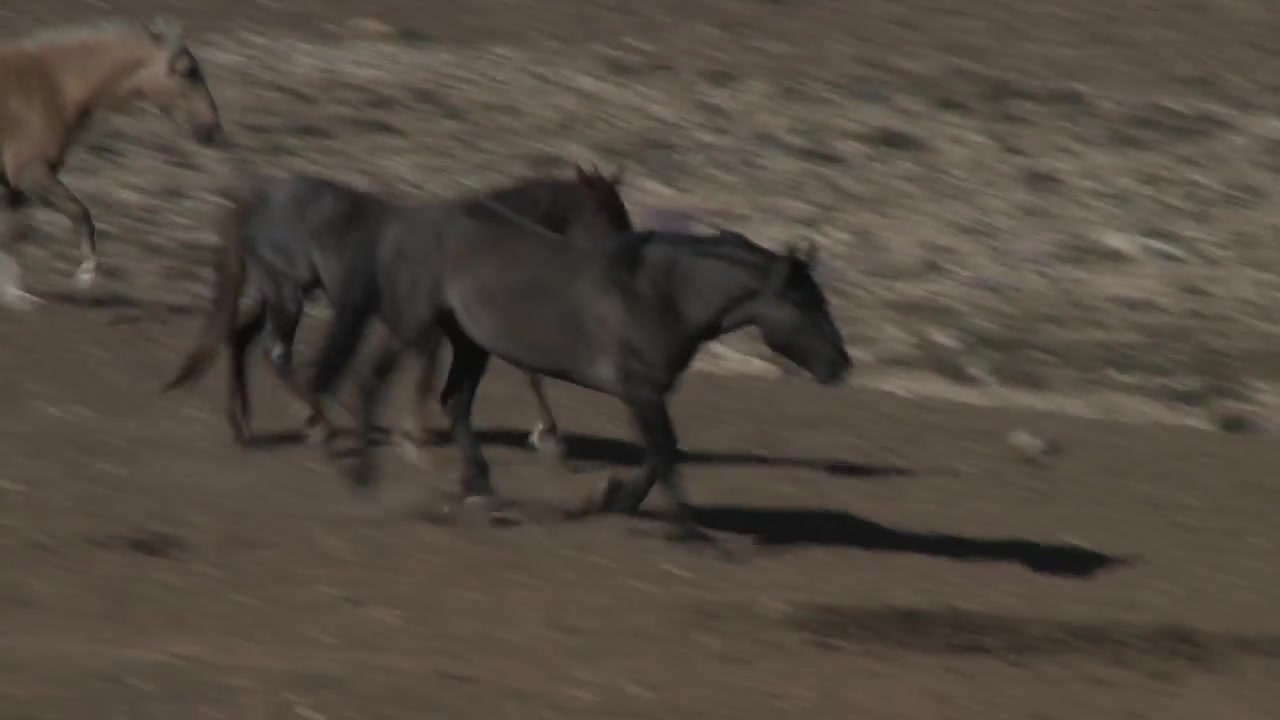horse: (347, 197, 856, 553), (160, 157, 651, 466), (1, 16, 224, 319)
